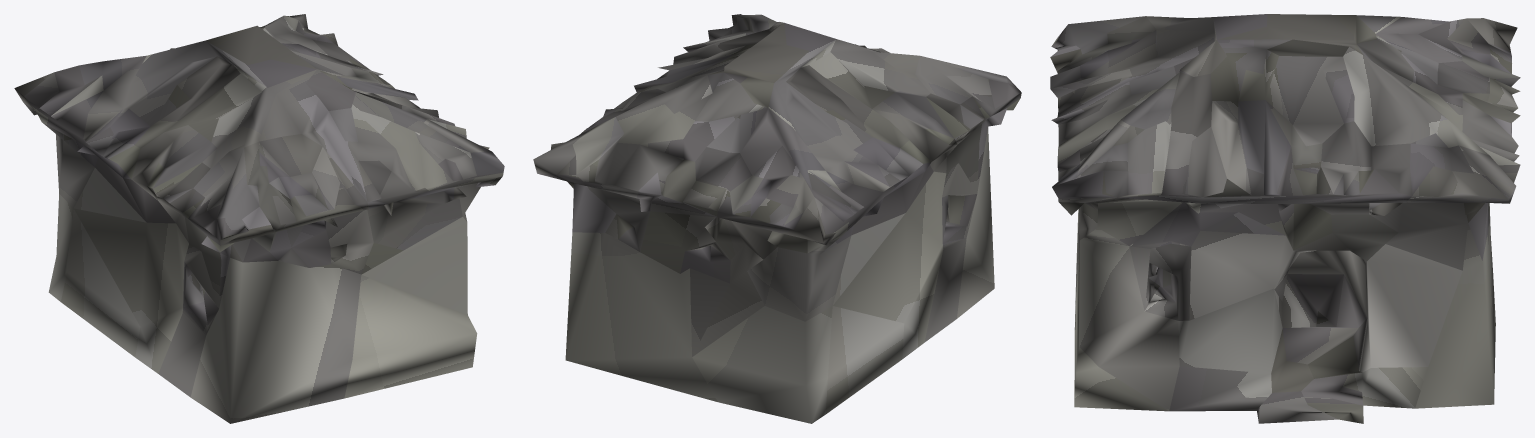
File: house_cottage_0_lo.glb
3 renders of one model, left to right at view 1: azimuth 30°, elevation 25°; view 2: azimuth 150°, elevation 25°; view 3: azimuth 270°, elevation 25°, orthographic. The views are drawn at different scales.
Parts seen in each view (by area): view 1: tripo_node_0d32273a-63ae-4ceb-8717-d3324743e121; view 2: tripo_node_0d32273a-63ae-4ceb-8717-d3324743e121; view 3: tripo_node_0d32273a-63ae-4ceb-8717-d3324743e121.
Part boxes in pixels (left/top/right/bottom): tripo_node_0d32273a-63ae-4ceb-8717-d3324743e121: left=14, top=14, right=504, bottom=423; tripo_node_0d32273a-63ae-4ceb-8717-d3324743e121: left=533, top=14, right=1021, bottom=423; tripo_node_0d32273a-63ae-4ceb-8717-d3324743e121: left=1050, top=14, right=1520, bottom=423.
Size of the model in its own units: 0.8224 by 0.7244 by 0.9802.
Materials: 1 (1 with a texture image).
